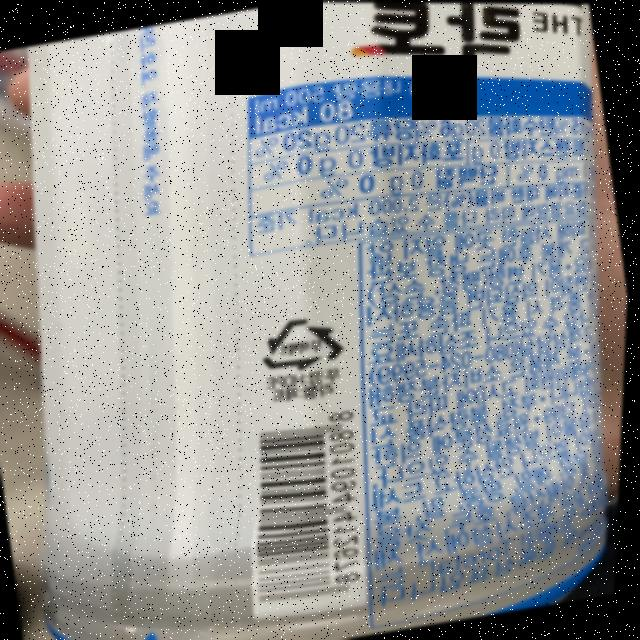ColorlessPET: (254, 308, 352, 377)
